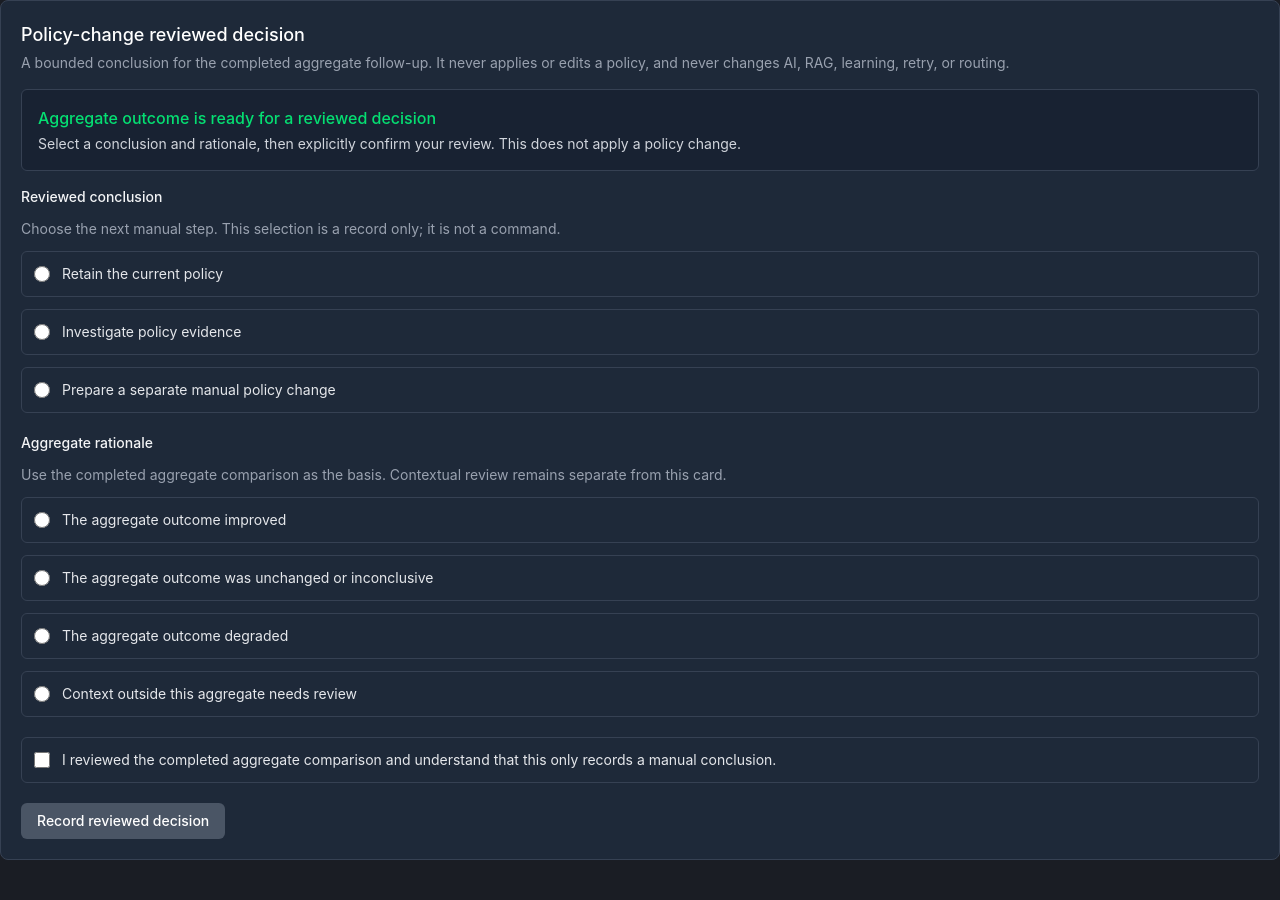
Scenario: PolicyChangeDecisionReview › loads review status automatically for a completed outcome and saves only after explicit confirmation
Expected: the submit button is disabled, x1=21 y1=803 x2=225 y2=839
Click the radio button labelled "Retain the current policy": (42, 274) x1=34 y1=266 x2=50 y2=282
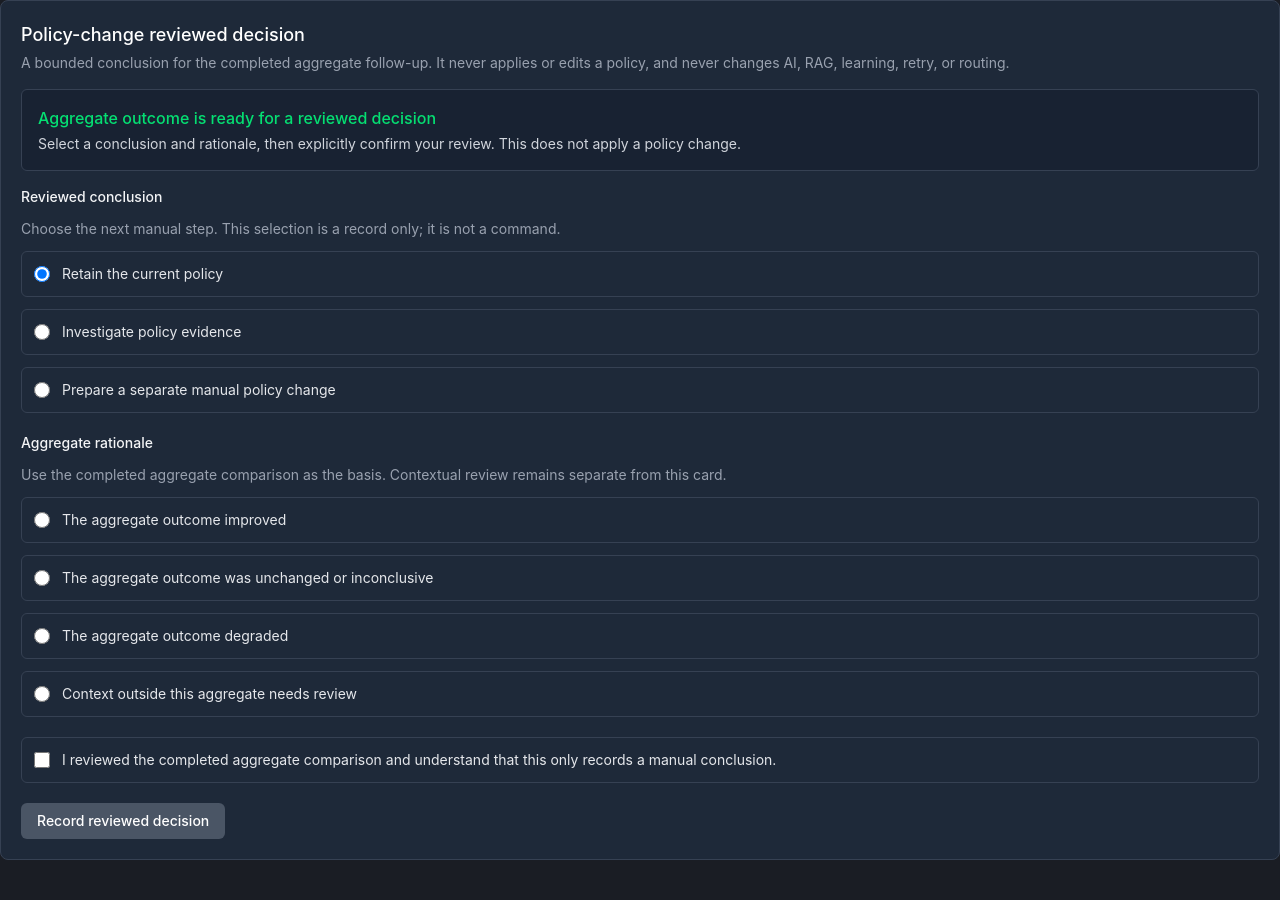
Click the radio button labelled "The aggregate outcome improved": (42, 520) x1=34 y1=512 x2=50 y2=528
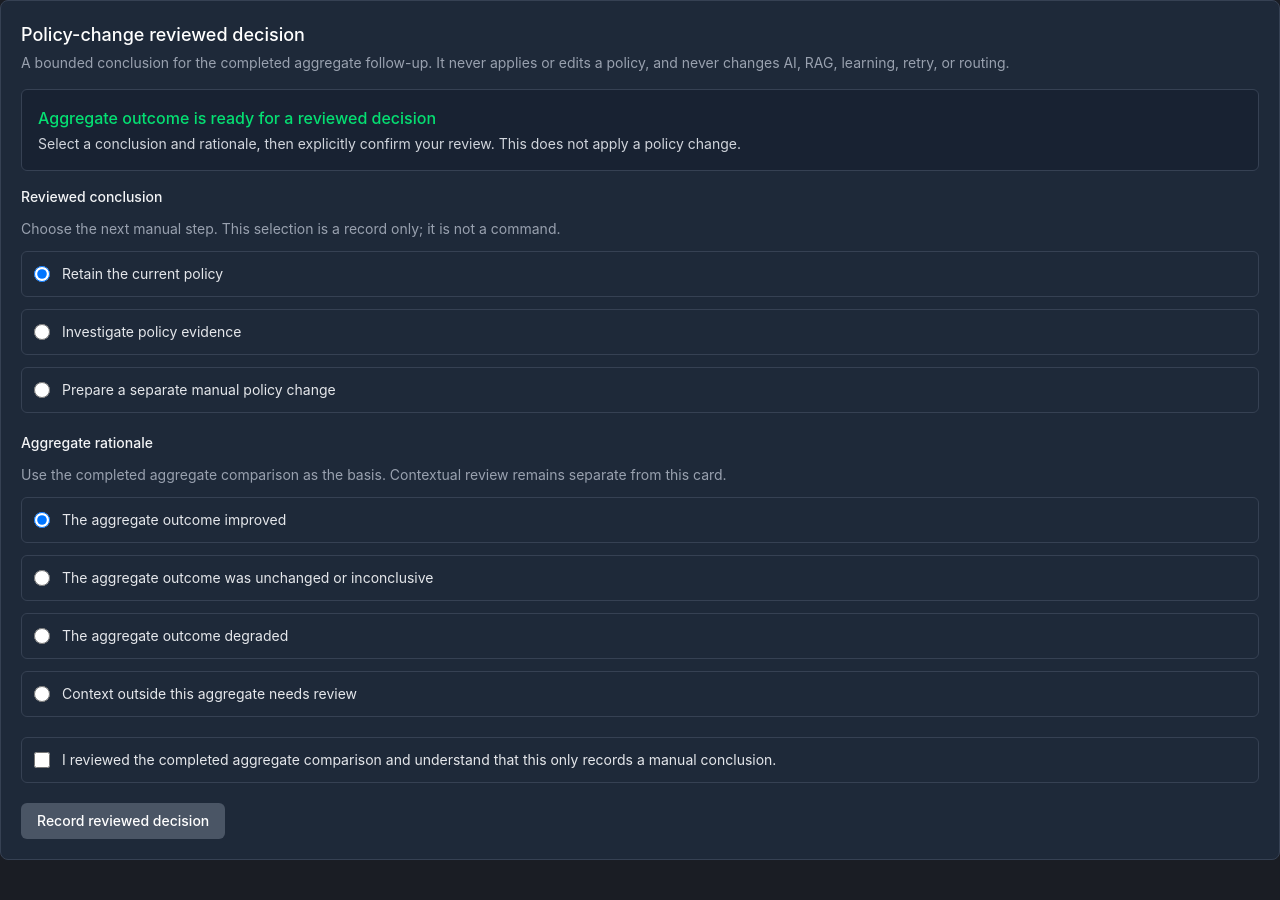
Click the checkbox: (42, 760) x1=34 y1=752 x2=50 y2=768
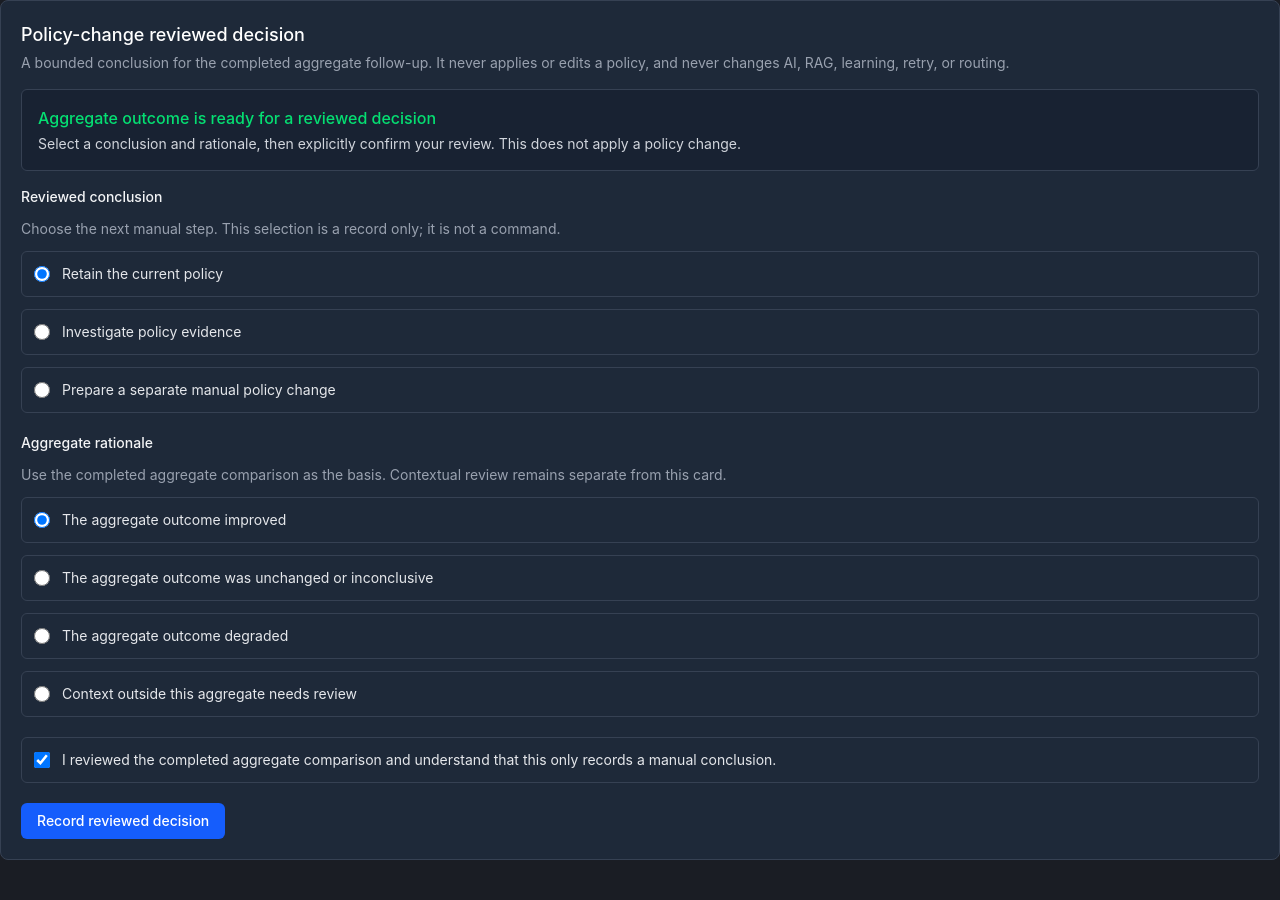
Expected: the submit button is enabled, x1=21 y1=803 x2=225 y2=839
Submit the form
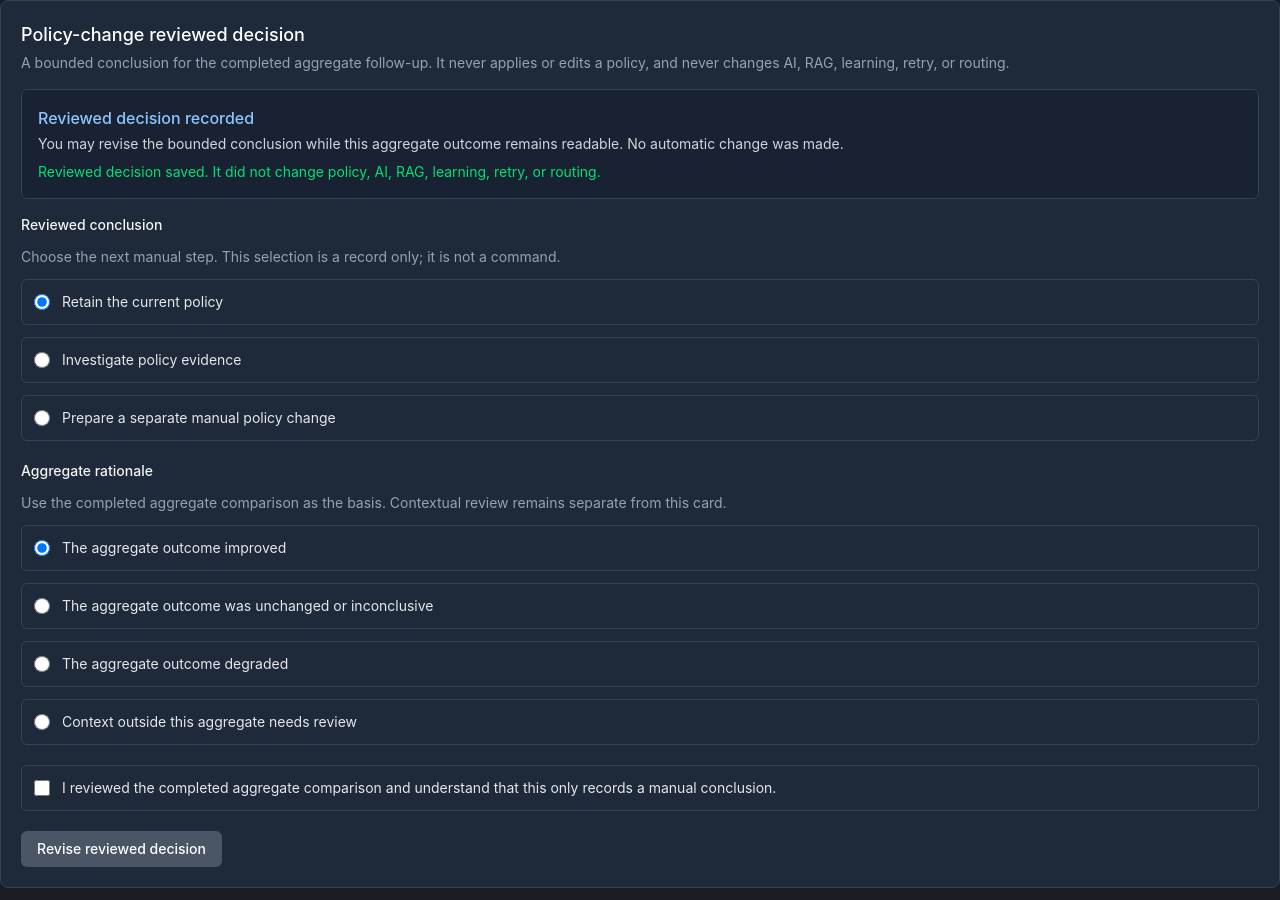
Expected: the text "Reviewed decision saved." is shown, x1=38 y1=163 x2=601 y2=180
Expected: the text "It did not change policy, AI, RAG, learning, retry, or routing." is shown, x1=38 y1=163 x2=601 y2=180
